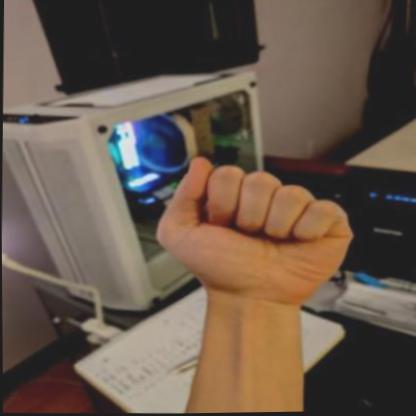A: (144, 144, 365, 313)
